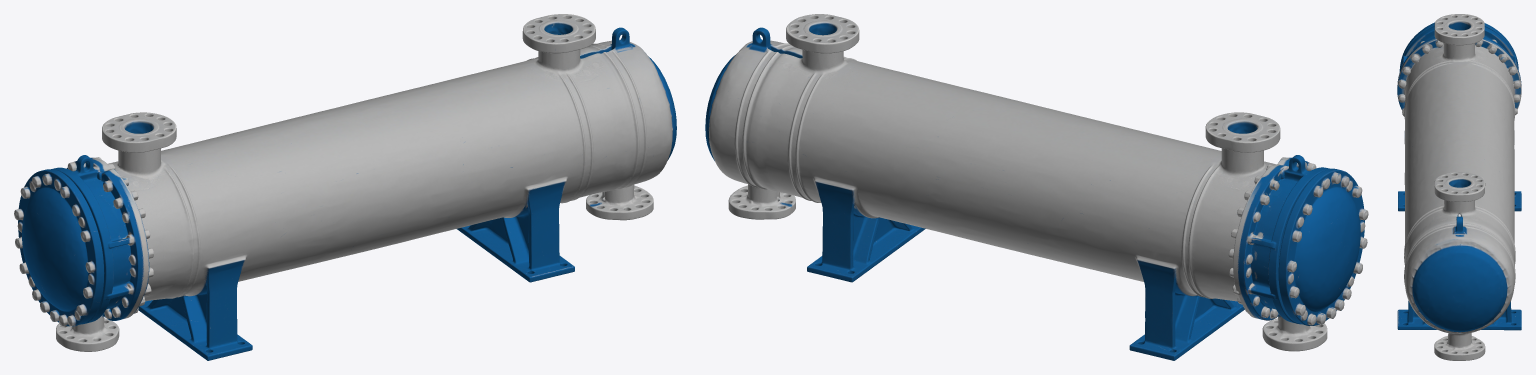
Rendered from M03-heat-exchanger-source.glb.
The picture shows the model from 3 angles, left to right: view 1: azimuth 30°, elevation 25°; view 2: azimuth 150°, elevation 25°; view 3: azimuth 270°, elevation 25°; orthographic projection. The views are drawn at different scales.
Bounding box in the file's own units: 1.9 × 0.6181 × 0.4364.
1 material, 1 textured.
